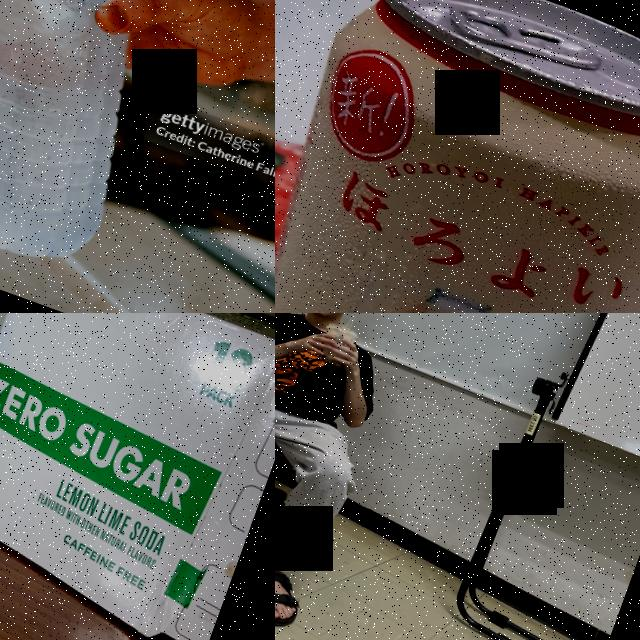bottle: (0, 0, 222, 280)
can: (275, 0, 640, 313)
cup: (314, 320, 361, 371)
